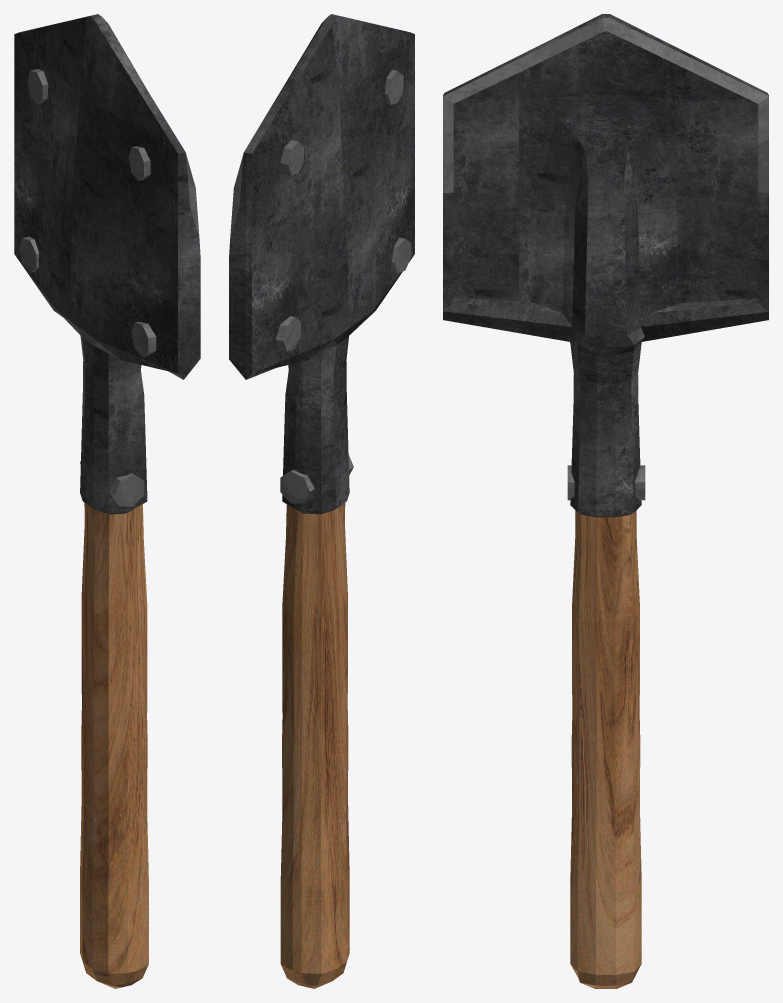
The model's file is shovel.glb.
The picture shows the model from 3 angles, left to right: view 1: azimuth 30°, elevation 25°; view 2: azimuth 150°, elevation 25°; view 3: azimuth 270°, elevation 25°; orthographic projection.
Visible parts, largest first — view 1: Cube.001; view 2: Cube.001; view 3: Cube.001.
Boxes of the visible parts, bbox=[...] form: Cube.001: bbox=[14, 14, 200, 988]; Cube.001: bbox=[229, 14, 414, 988]; Cube.001: bbox=[443, 14, 768, 988].
Size of the model in its own units: 0.0624 by 0.8887 by 0.273.
3 materials, 3 textured.
